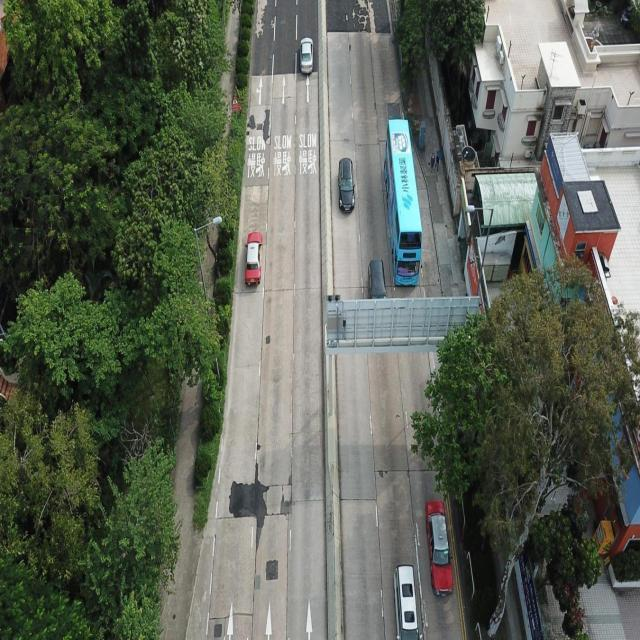p3rson: (436, 151, 440, 172), (431, 153, 435, 174)
